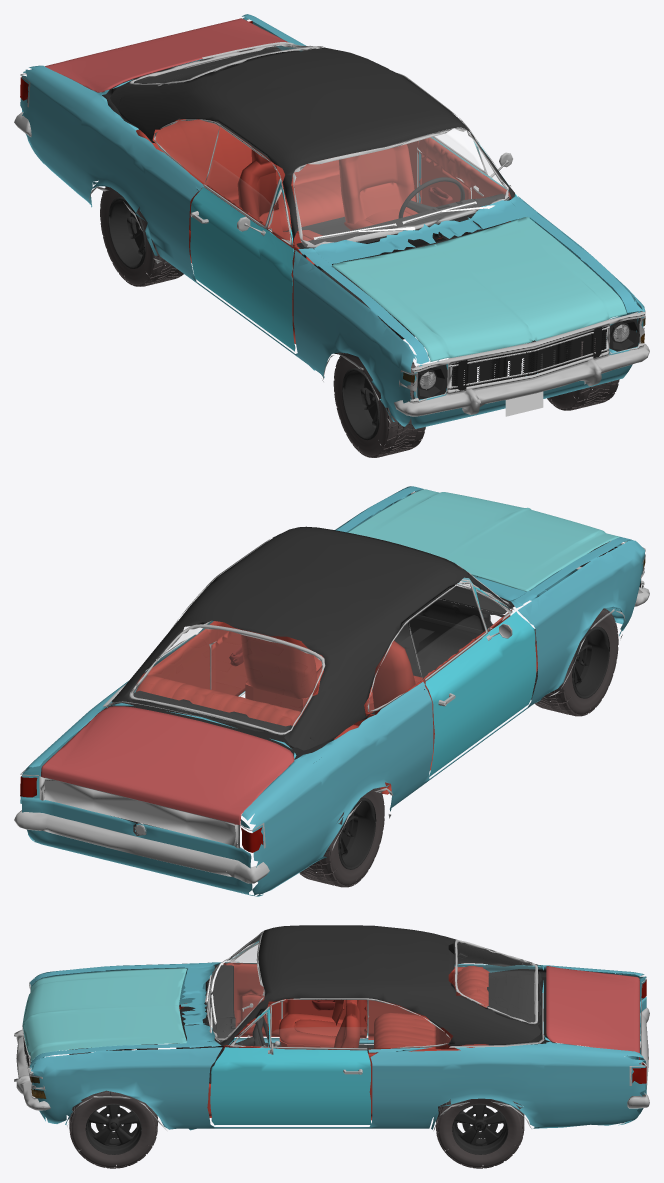
Rendered from opala-m.glb.
3 renders of one model, top to bottom at view 1: azimuth 30°, elevation 25°; view 2: azimuth 150°, elevation 25°; view 3: azimuth 270°, elevation 25°, orthographic. The views are drawn at different scales.
Parts seen in each view (by area): view 1: lataria_94, teto_65, capo_95, lataria.011_57, porta_93, Plane.009_78, porta malas_92, Plane.008_79, lataria.003_69, Plane.015_26, porta.001_91, Plane.028_29 (+15 smaller); view 2: lataria_94, teto_65, porta malas_92, capo_95, porta_93, porta.007_2, lataria.004_68, lataria.006_66, Plane.008_79, Plane.009_78, porta.001_91, Plane.030_17 (+11 smaller); view 3: lataria_94, teto_65, porta_93, capo_95, porta malas_92, Plane.009_78, lataria.011_57, porta.001_91, Plane.027_34, porta.007_2, Plane.016_23, Plane.011_77 (+14 smaller).
Part boxes in pixels (left/top/right/bottom): lataria_94: left=20, top=14, right=645, bottom=428; teto_65: left=110, top=47, right=514, bottom=245; capo_95: left=332, top=216, right=626, bottom=361; lataria.011_57: left=293, top=127, right=509, bottom=247; porta_93: left=190, top=137, right=534, bottom=351; Plane.009_78: left=136, top=119, right=344, bottom=241; porta malas_92: left=45, top=18, right=288, bottom=92; Plane.008_79: left=338, top=144, right=415, bottom=223; lataria.003_69: left=394, top=343, right=649, bottom=416; Plane.015_26: left=450, top=326, right=607, bottom=391; porta.001_91: left=206, top=137, right=511, bottom=343; Plane.028_29: left=410, top=311, right=645, bottom=403; lataria_94: left=20, top=486, right=645, bottom=896; teto_65: left=112, top=526, right=513, bottom=750; porta malas_92: left=41, top=706, right=294, bottom=827; capo_95: left=348, top=489, right=626, bottom=591; porta_93: left=197, top=584, right=536, bottom=776; porta.007_2: left=104, top=619, right=479, bottom=793; lataria.004_68: left=20, top=769, right=265, bottom=848; lataria.006_66: left=14, top=810, right=269, bottom=883; Plane.008_79: left=240, top=629, right=318, bottom=698; Plane.009_78: left=136, top=675, right=358, bottom=739; porta.001_91: left=207, top=609, right=512, bottom=770; Plane.030_17: left=531, top=608, right=618, bottom=716; lataria_94: left=29, top=962, right=646, bottom=1130; teto_65: left=204, top=925, right=541, bottom=1045; porta_93: left=210, top=941, right=370, bottom=1124; capo_95: left=22, top=968, right=186, bottom=1061; porta malas_92: left=546, top=966, right=639, bottom=1064; Plane.009_78: left=374, top=966, right=489, bottom=1049; lataria.011_57: left=206, top=933, right=264, bottom=1042; porta.001_91: left=223, top=962, right=367, bottom=1050; Plane.027_34: left=69, top=1090, right=157, bottom=1168; porta.007_2: left=176, top=969, right=555, bottom=1053; Plane.016_23: left=436, top=1098, right=524, bottom=1168; Plane.011_77: left=279, top=1013, right=343, bottom=1046.
Size of what is drawn, in the model's own units: 2.45 by 1.88 by 6.24.
17 materials, 1 textured.
